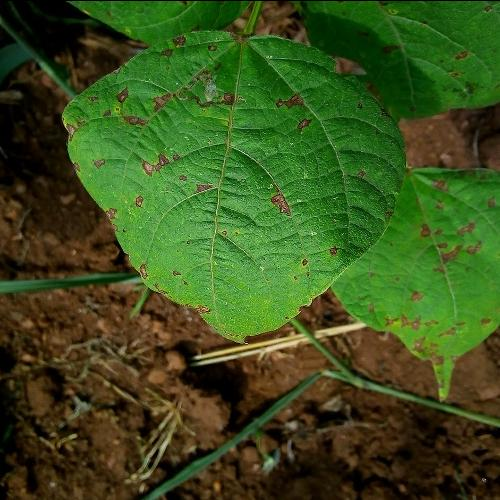hawar: (84, 22, 228, 134), (119, 118, 201, 215), (268, 75, 330, 156), (258, 164, 326, 221)
